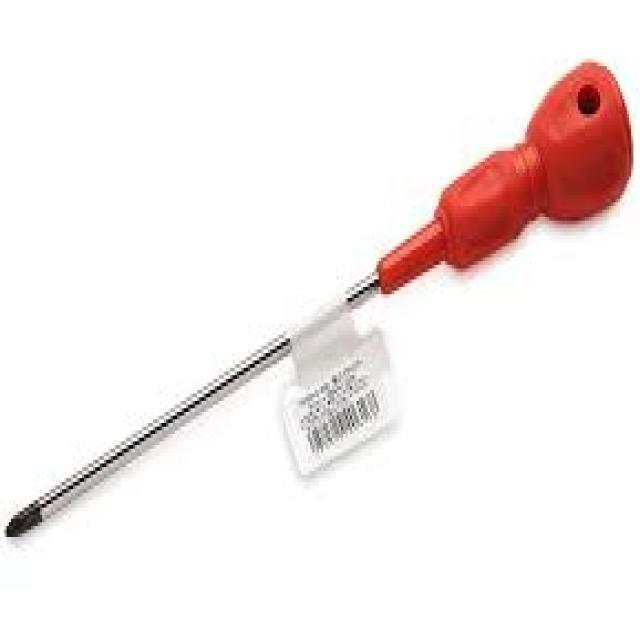screwdriver: (2, 57, 634, 550)
